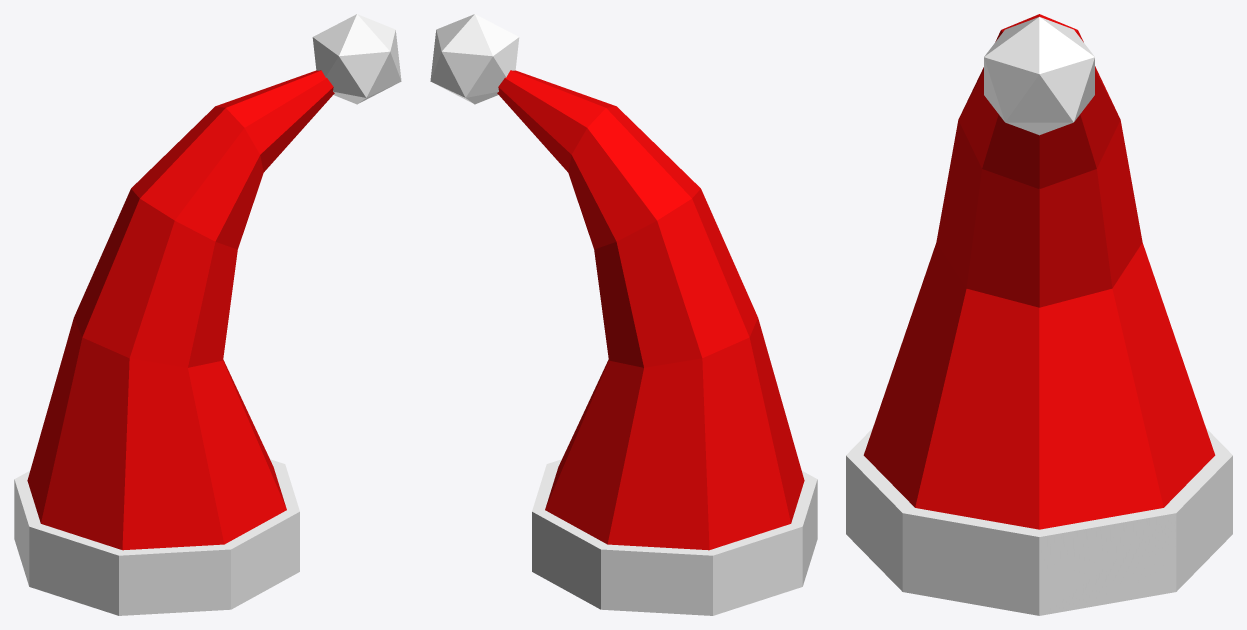
Rendered from santa_hat.glb.
3 renders of one model, left to right at view 1: azimuth 30°, elevation 25°; view 2: azimuth 150°, elevation 25°; view 3: azimuth 270°, elevation 25°, orthographic. The views are drawn at different scales.
Parts seen in each view (by area): view 1: iwanPlaysSantaHat_0; view 2: iwanPlaysSantaHat_0; view 3: iwanPlaysSantaHat_0.
Part boxes in pixels (left/top/right/bottom): iwanPlaysSantaHat_0: left=14, top=14, right=401, bottom=615; iwanPlaysSantaHat_0: left=430, top=14, right=817, bottom=615; iwanPlaysSantaHat_0: left=846, top=14, right=1232, bottom=615.
Bounding box in the file's own units: 1.7 × 2.19 × 1.19.
